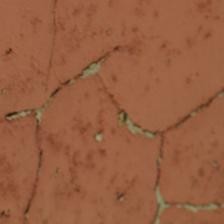Crack: (3, 50, 119, 123), (99, 77, 222, 140), (152, 134, 221, 224), (17, 113, 58, 221)
